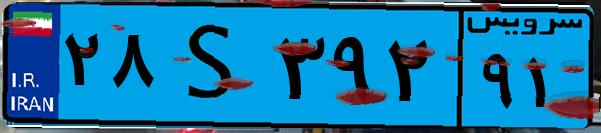1: (525, 38, 570, 115)
2: (385, 28, 445, 110), (57, 26, 110, 100)
3: (270, 28, 330, 110)
8: (110, 28, 158, 98)
9: (330, 28, 385, 110), (475, 38, 525, 113)
S: (158, 12, 270, 120)
